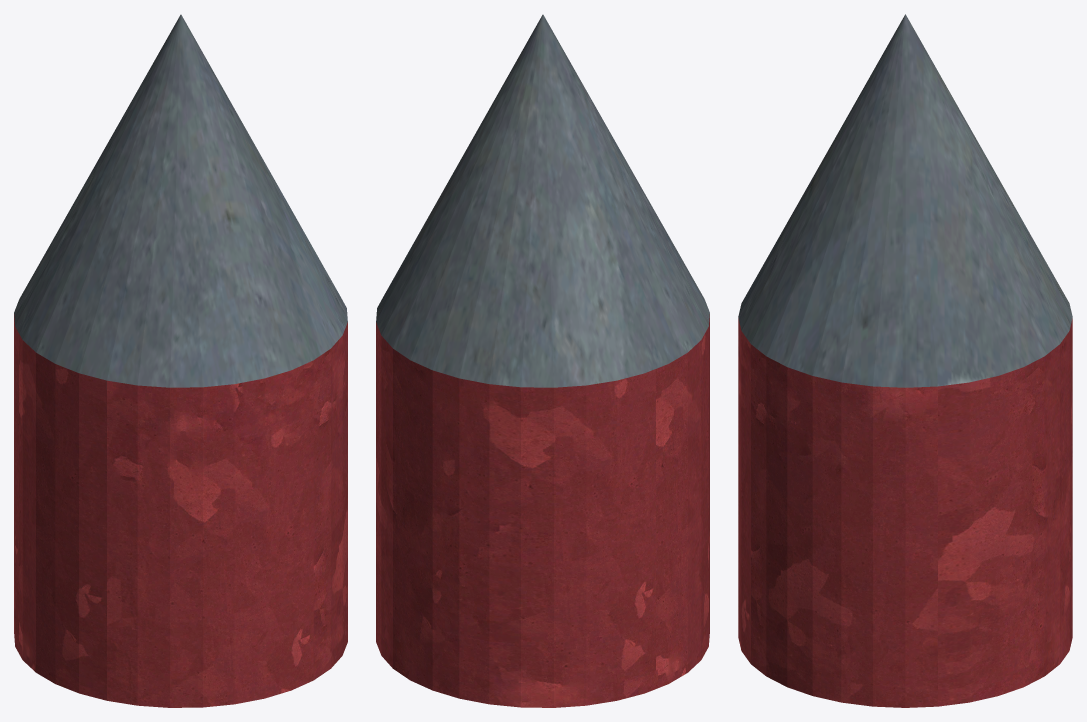
File: bullet.fbx
The picture shows the model from 3 angles, left to right: view 1: azimuth 30°, elevation 25°; view 2: azimuth 150°, elevation 25°; view 3: azimuth 270°, elevation 25°; orthographic projection.
Parts seen in each view (by area): view 1: Cone; view 2: Cone; view 3: Cone.
Part boxes in pixels (box(x1,y1,x2,y2)): Cone: box(14, 14, 347, 707); Cone: box(376, 14, 709, 707); Cone: box(738, 14, 1072, 707).
Size of the model in its own units: 200 by 411 by 200.
